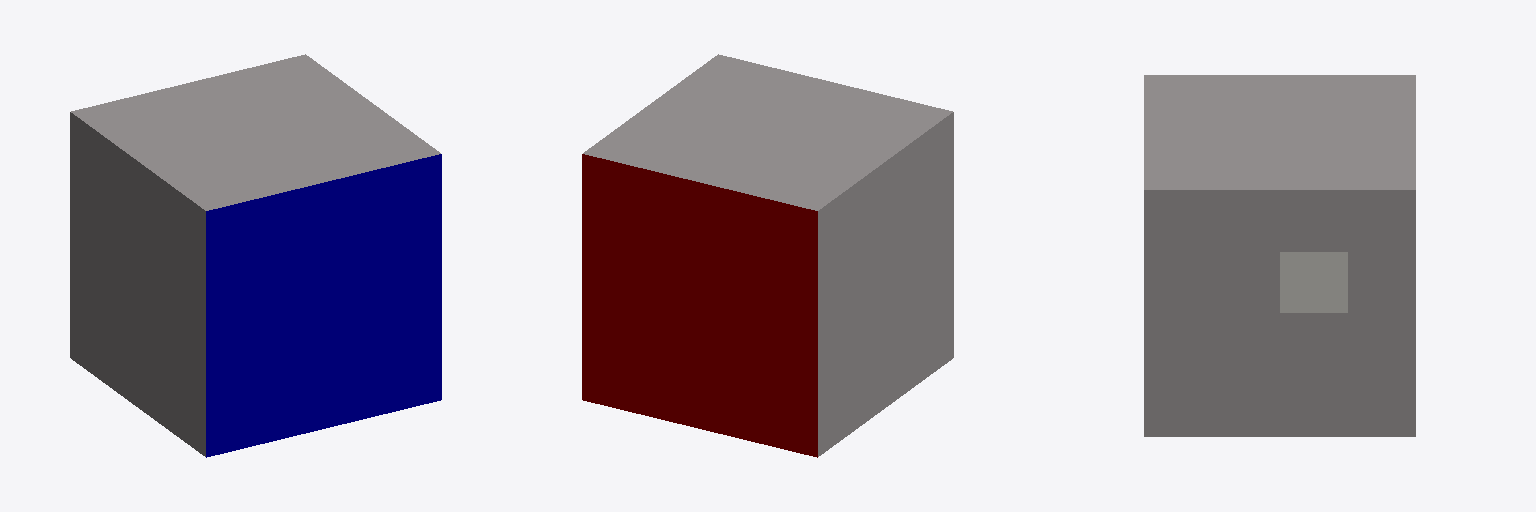
The model's file is quad_box.obj.
3 renders of one model, left to right at view 1: azimuth 30°, elevation 25°; view 2: azimuth 150°, elevation 25°; view 3: azimuth 270°, elevation 25°, orthographic.
Visible parts, largest first — view 1: Cube; view 2: Cube; view 3: Cube.
Boxes of the visible parts, box(x1,y1,x2,y2) form: Cube: box(70, 54, 441, 457); Cube: box(582, 54, 953, 457); Cube: box(1144, 75, 1415, 436).
Size of the model in its own units: 2 by 2 by 2.